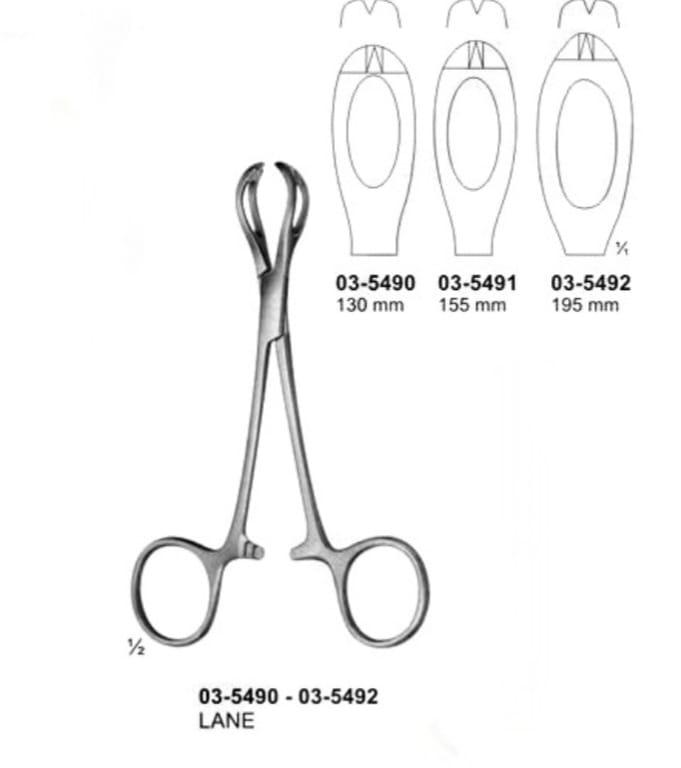Lane Tissue Forceps: (130, 161, 434, 653)
